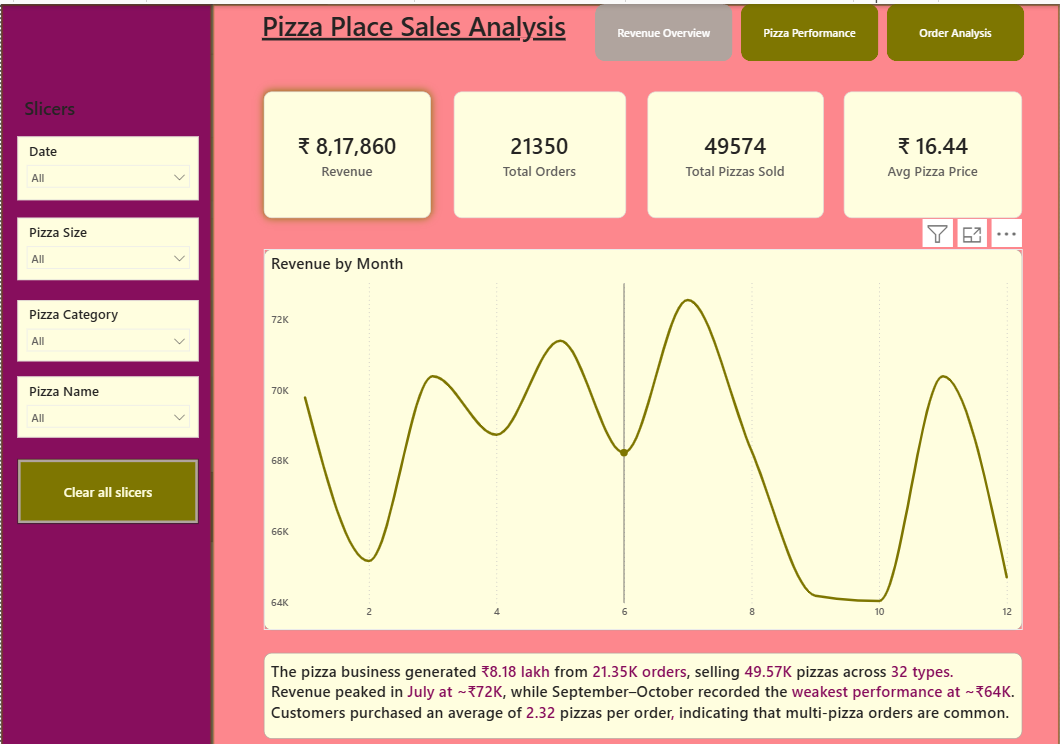

The dashboard page shown, as its layout file describes it:
{"tool":"powerbi","page":{"name":"Revenue Overview","canvas":[1280,900],"ordinal":0},"visuals":[{"type":"cardVisual","fields":{"Data":["Measures (2).Total Revenue"]},"box":[317.9,105.5,201.8,152.9],"z":0},{"type":"cardVisual","fields":{"Data":["Measures (2).Total Orders"]},"box":[547.2,105.5,207.9,152.9],"z":1000},{"type":"cardVisual","fields":{"Data":["Measures (2).Avg Pizza Price"]},"box":[1018,105.5,215.5,152.9],"z":2000},{"type":"cardVisual","fields":{"Data":["Measures (2).Total Pizzas Sold"]},"box":[781.1,105.5,212.5,152.9],"z":3000},{"type":"slicer","fields":{"Values":["pizza_types.category"]},"box":[21.1,357.4,218.7,73.9],"z":4000},{"type":"slicer","fields":{"Values":["pizzas.size"]},"box":[21.1,257.9,218.7,75.4],"z":5000},{"type":"slicer","fields":{"Values":["orders.date"]},"box":[21.1,159.9,218.7,76.9],"z":6000},{"type":"slicer","fields":{"Values":["pizza_types.name"]},"box":[21.1,449.4,218.7,73.9],"z":7000},{"type":"textbox","box":[301.6,0,395.1,61.8],"z":8000},{"type":"actionButton","box":[21.1,548.9,218.7,78.4],"z":9000},{"type":"textbox","box":[24.5,105.5,93.2,55],"z":10000},{"type":"lineChart","title":" Revenue by Month","fields":{"Y":["Measures (2).Total Revenue"],"Category":["orders.Month"]},"box":[317.9,295,915.6,460.1],"z":11000},{"type":"textbox","box":[317.9,782.6,915.6,103.9],"z":12000},{"type":"pageNavigator","box":[717.8,0,518.8,69.4],"z":12001}]}

Visuals, with their boxes in screenshot pixels (x1, y1, x2, y2), scaled from the page's 1280x900 canvas onto the 1060x744 screenshot:
cardVisual - Measures (2).Total Revenue: (263, 87, 430, 214)
cardVisual - Measures (2).Total Orders: (453, 87, 625, 214)
cardVisual - Measures (2).Avg Pizza Price: (843, 87, 1021, 214)
cardVisual - Measures (2).Total Pizzas Sold: (647, 87, 823, 214)
slicer - pizza_types.category: (17, 295, 199, 357)
slicer - pizzas.size: (17, 213, 199, 276)
slicer - orders.date: (17, 132, 199, 196)
slicer - pizza_types.name: (17, 372, 199, 433)
textbox: (250, 0, 577, 51)
actionButton: (17, 454, 199, 519)
textbox: (20, 87, 97, 133)
" Revenue by Month" lineChart: (263, 244, 1021, 624)
textbox: (263, 647, 1021, 733)
pageNavigator: (594, 0, 1024, 57)
